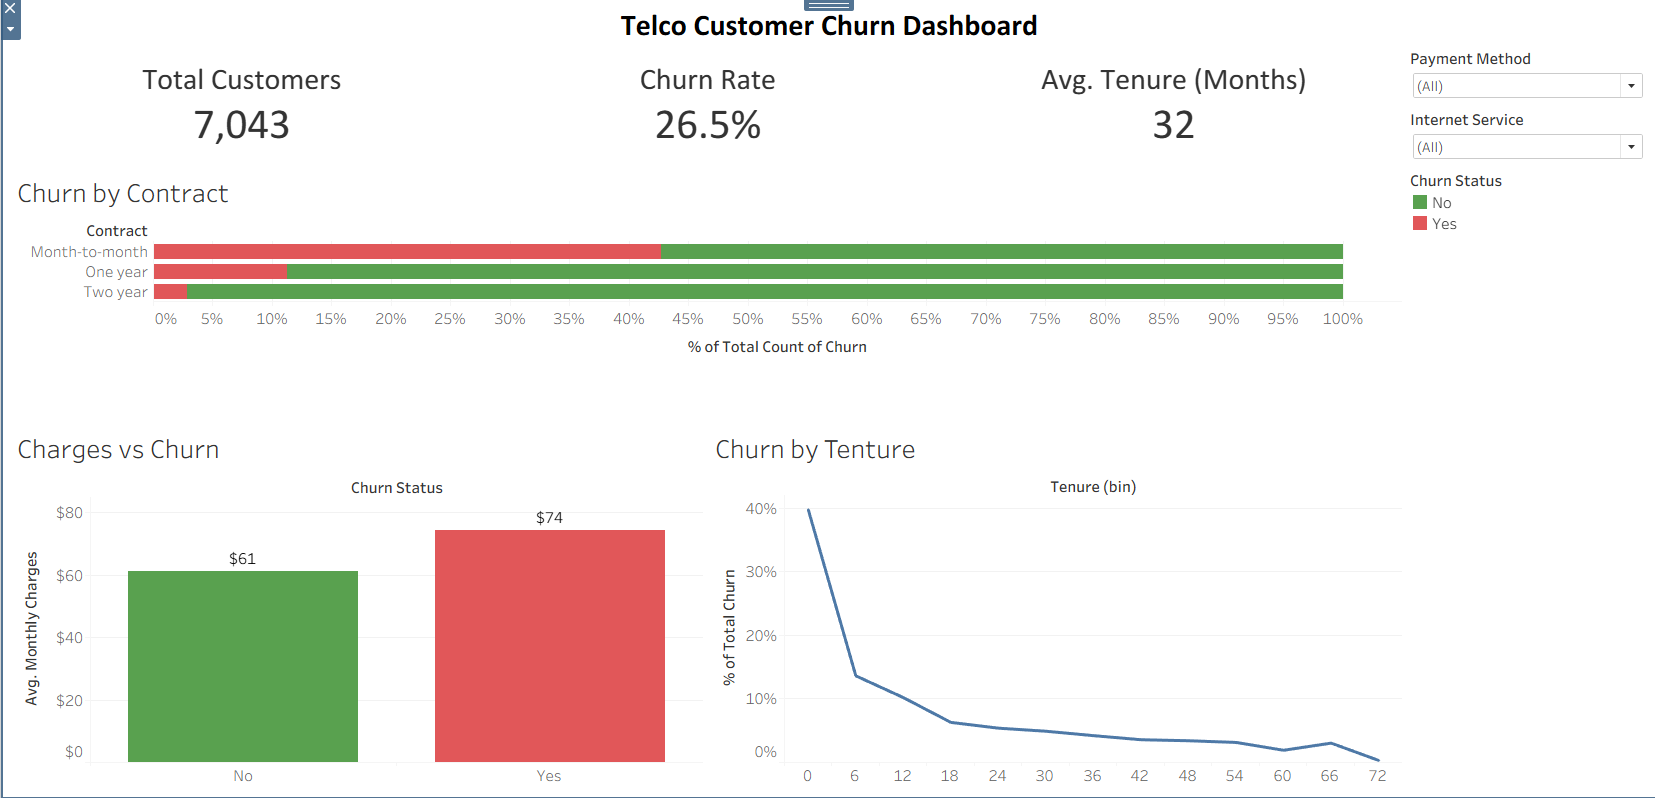

What the dashboard file says about the page in this screenshot:
{"tool":"tableau","page":{"name":"Customer Churn Overview","canvas":[1000,1000],"units":"permille","ordinal":0},"visuals":[{"type":"text","box":[4.8,10,990.3,47.4]},{"type":"worksheet","title":"KPI – Total Customers","mark":"Text","box":[4.8,57.4,281.2,153.6]},{"type":"worksheet","title":"KPI — Churn Rate (%)","mark":"Text","box":[286.1,57.4,281.2,153.6]},{"type":"worksheet","title":"KPI — Avg. Tenure (Months)","mark":"Text","box":[567.3,57.4,280.6,153.6]},{"type":"filter","title":"Churn by Contract","param":"[federated.1h76gci1q36jpl1ed8xuy0itcxqn].[none:PaymentMethod:nk]","box":[847.9,57.4,147.2,76.2]},{"type":"filter","title":"Churn by Contract","param":"[federated.1h76gci1q36jpl1ed8xuy0itcxqn].[none:InternetService:nk]","box":[847.9,133.6,147.2,76.2]},{"type":"legend","title":"Churn by Contract","param":"[federated.1h76gci1q36jpl1ed8xuy0itcxqn].[none:Calculation_1668302235085369344:n","box":[847.9,209.8,147.2,89.9]},{"type":"worksheet","title":"Churn by Contract","mark":"Bar","rows":["Contract"],"box":[4.8,211.4,843.1,319.3]},{"type":"worksheet","title":"Charges vs Churn","mark":"Bar","rows":["MonthlyCharges"],"cols":["Calculation_1668302235085369344"],"box":[4.8,530.7,421.5,459.4]},{"type":"worksheet","title":"Churn by Tenture","mark":"Line","cols":["Tenure (bin)"],"box":[426.4,530.7,421.6,459.4]}]}

Visuals, with their boxes on the dashboard's canvas, which has no fixed pixel size, in thousandths of its width and height (x1, y1, x2, y2). These are canvas units, not pixel positions in the 1655x798 screenshot, which may show the page scaled, cropped or inside an application window:
text: <bbox>5, 10, 995, 57</bbox>
"KPI – Total Customers" worksheet (Text marks): <bbox>5, 57, 286, 211</bbox>
"KPI — Churn Rate (%)" worksheet (Text marks): <bbox>286, 57, 567, 211</bbox>
"KPI — Avg. Tenure (Months)" worksheet (Text marks): <bbox>567, 57, 848, 211</bbox>
"Churn by Contract" filter: <bbox>848, 57, 995, 134</bbox>
"Churn by Contract" filter: <bbox>848, 134, 995, 210</bbox>
"Churn by Contract" legend: <bbox>848, 210, 995, 300</bbox>
"Churn by Contract" worksheet (Bar marks): <bbox>5, 211, 848, 531</bbox>
"Charges vs Churn" worksheet (Bar marks): <bbox>5, 531, 426, 990</bbox>
"Churn by Tenture" worksheet (Line marks): <bbox>426, 531, 848, 990</bbox>
